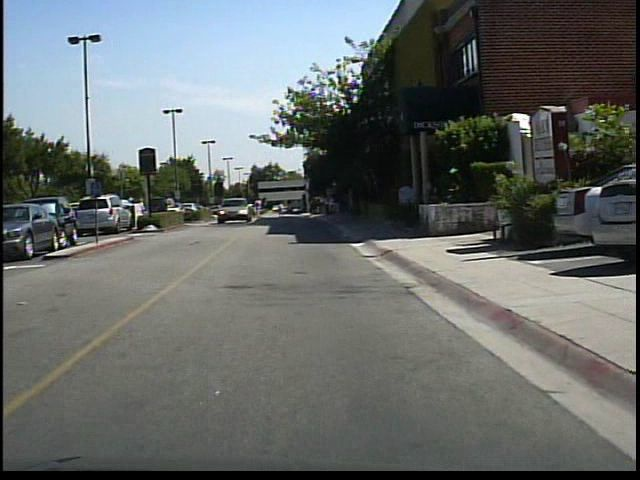person: (331, 182, 348, 219), (157, 191, 174, 226), (136, 196, 151, 227), (252, 194, 265, 221)
